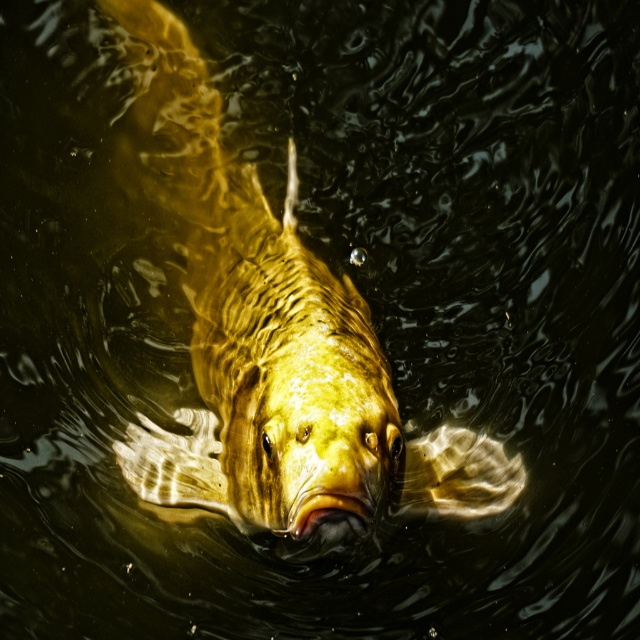Fish: (93, 0, 527, 555)
